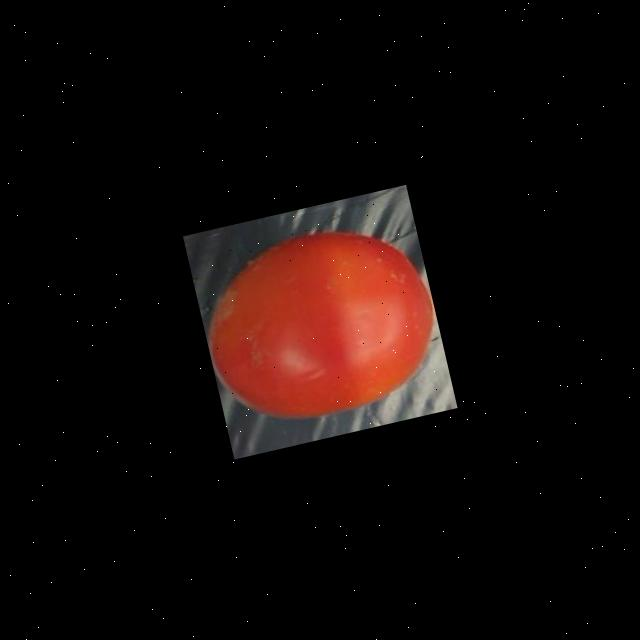tomato: (187, 200, 453, 438)
